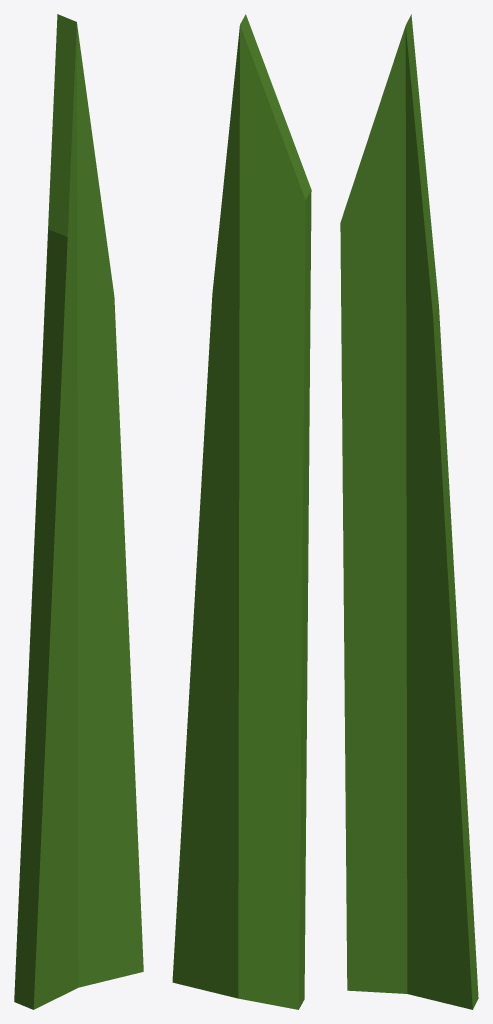
The model's file is mato2.fbx.
3 views of the same model, side by side, from view 1: azimuth 30°, elevation 25°; view 2: azimuth 150°, elevation 25°; view 3: azimuth 330°, elevation 25° (orthographic).
Parts seen in each view (by area): view 1: Plane.001; view 2: Plane.001; view 3: Plane.001.
Boxes of the visible parts, box(x1,y1,x2,y2) form: Plane.001: box(14, 14, 143, 1009); Plane.001: box(172, 14, 311, 1009); Plane.001: box(340, 14, 478, 1009).
Bounding box in the file's own units: 31.24 × 233 × 17.64.
